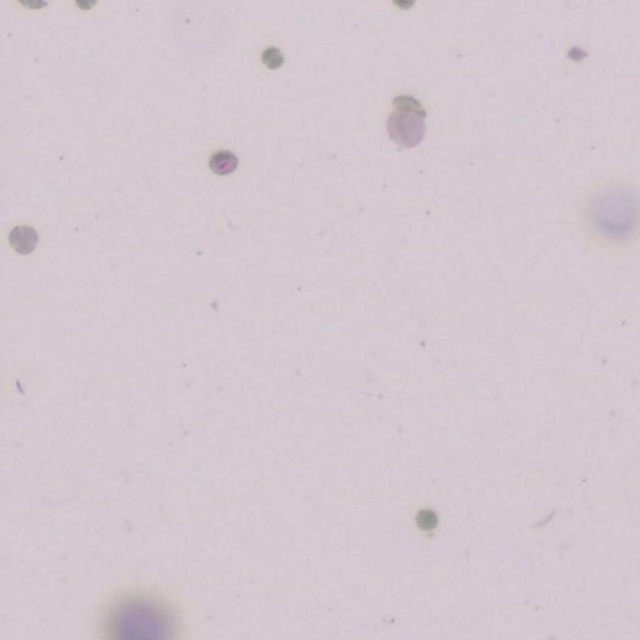non_viable: (9, 226, 37, 254), (208, 150, 236, 174), (414, 508, 438, 533), (261, 46, 283, 68), (18, 0, 46, 10), (74, 0, 96, 9), (393, 0, 414, 9)
